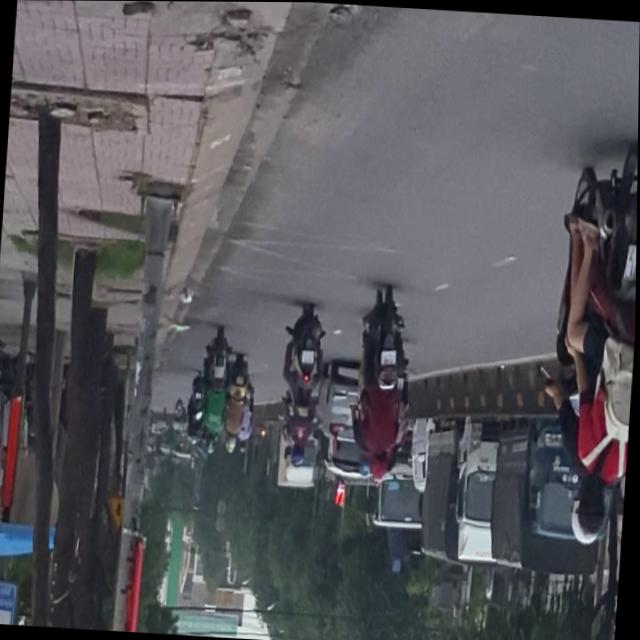licenseplate: (539, 134, 638, 547)
motorcyclist: (577, 464, 613, 536)
nohelmet: (625, 245, 637, 282)
